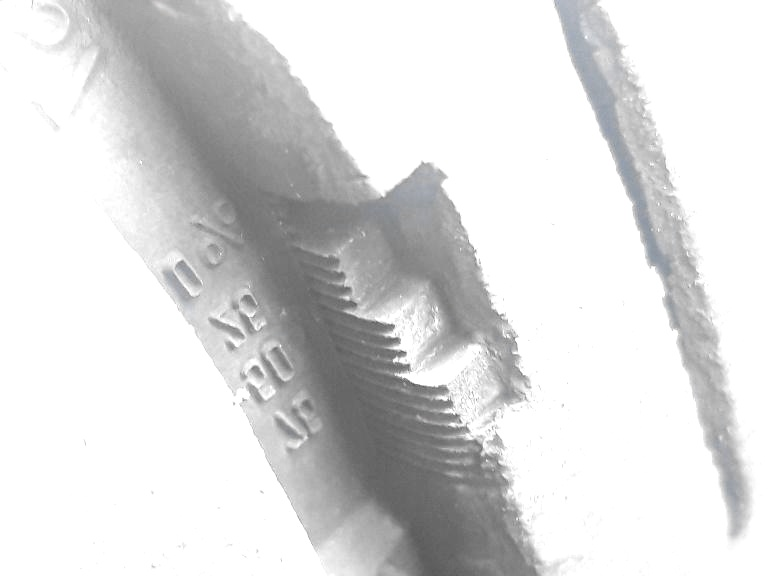temoin:80: (223, 147, 555, 508)
